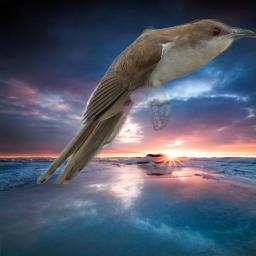Cuckoo: (37, 19, 256, 184)
